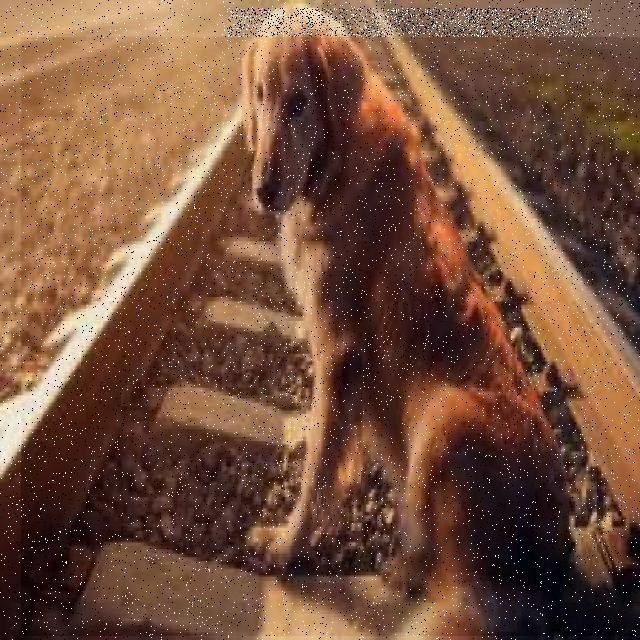rail: (22, 38, 640, 637)
